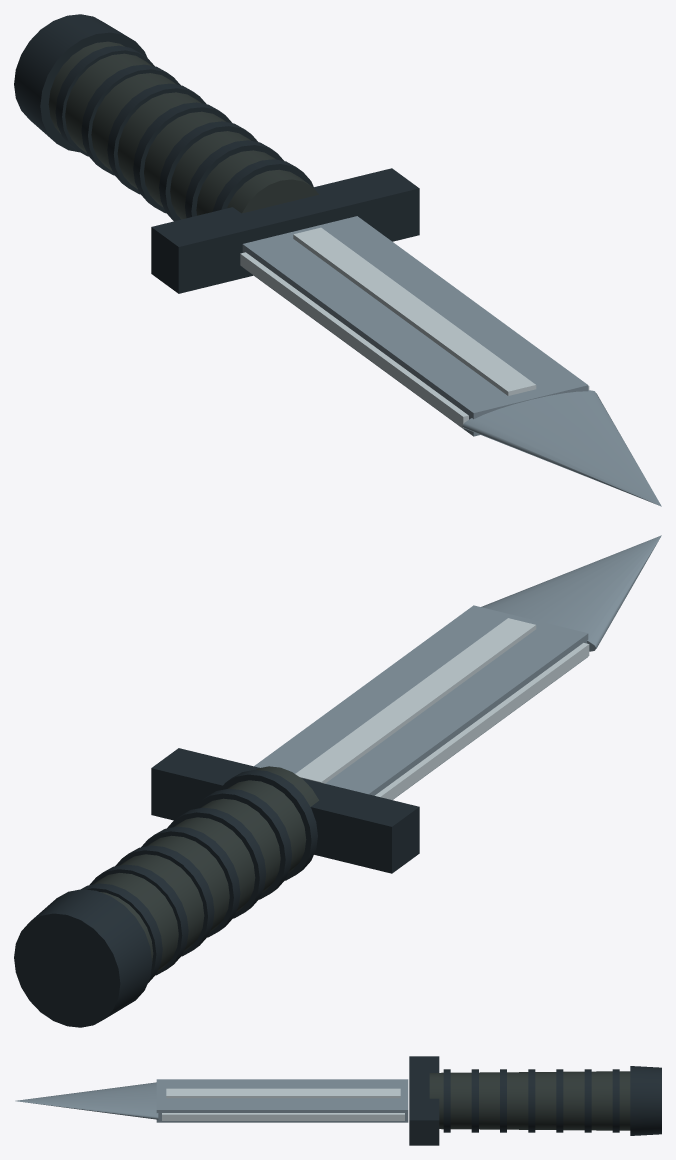
File: melee_dagger.glb
3 renders of one model, top to bottom at view 1: azimuth 30°, elevation 25°; view 2: azimuth 150°, elevation 25°; view 3: azimuth 270°, elevation 25°, orthographic. The views are drawn at different scales.
Visible parts, largest first — view 1: blade, grip, guard, blade_tip, blade_ridge, pommel, blade_edge_-1, grip_band_3, grip_band_4, grip_band_2, grip_band_1, grip_band_0 (+2 smaller); view 2: blade, pommel, grip, guard, blade_tip, blade_ridge, blade_edge_-1, grip_band_6, grip_band_5, grip_band_4, grip_band_3, grip_band_2 (+2 smaller); view 3: grip, blade, blade_tip, blade_ridge, guard, pommel, blade_edge_1, grip_band_0, grip_band_1, grip_band_2, grip_band_3, grip_band_5 (+2 smaller).
Boxes of the visible parts, bbox=[...] form: blade: bbox=[242, 216, 588, 436]; grip: bbox=[48, 41, 318, 219]; guard: bbox=[151, 168, 419, 293]; blade_tip: bbox=[462, 390, 661, 506]; blade_ridge: bbox=[293, 227, 536, 395]; pommel: bbox=[14, 14, 147, 152]; blade_edge_-1: bbox=[240, 252, 468, 428]; grip_band_3: bbox=[133, 102, 232, 213]; grip_band_4: bbox=[159, 121, 257, 221]; grip_band_2: bbox=[107, 83, 206, 194]; grip_band_1: bbox=[81, 64, 180, 175]; grip_band_0: bbox=[55, 45, 154, 156]; blade: bbox=[254, 605, 588, 799]; pommel: bbox=[14, 889, 152, 1027]; grip: bbox=[93, 766, 318, 971]; guard: bbox=[151, 748, 419, 873]; blade_tip: bbox=[481, 535, 661, 651]; blade_ridge: bbox=[295, 618, 536, 783]; blade_edge_-1: bbox=[375, 643, 589, 799]; grip_band_6: bbox=[218, 769, 317, 880]; grip_band_5: bbox=[193, 788, 291, 899]; grip_band_4: bbox=[167, 807, 266, 918]; grip_band_3: bbox=[141, 826, 240, 937]; grip_band_2: bbox=[115, 845, 214, 956]; grip: bbox=[429, 1071, 630, 1130]; blade: bbox=[156, 1079, 408, 1122]; blade_tip: bbox=[15, 1082, 158, 1119]; blade_ridge: bbox=[166, 1088, 400, 1098]; guard: bbox=[409, 1056, 439, 1145]; pommel: bbox=[630, 1066, 661, 1135]; blade_edge_1: bbox=[162, 1113, 404, 1120]; grip_band_0: bbox=[612, 1069, 619, 1132]; grip_band_1: bbox=[584, 1069, 591, 1132]; grip_band_2: bbox=[556, 1069, 563, 1132]; grip_band_3: bbox=[528, 1069, 535, 1132]; grip_band_5: bbox=[471, 1069, 478, 1132].
Size of the model in its own units: 0.086 by 0.04 by 0.368.
